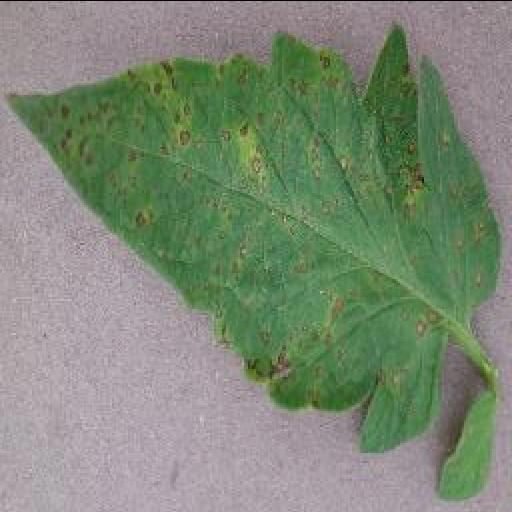disease_tomato: (7, 24, 501, 453)
